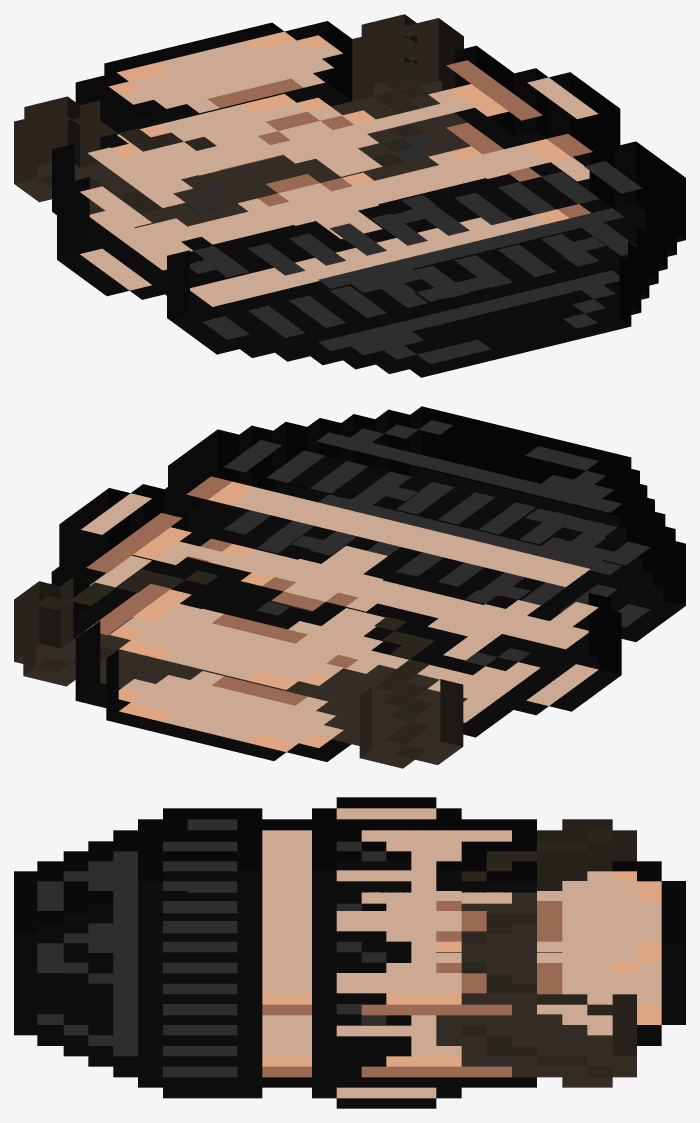
The picture shows the model from 3 angles, top to bottom: view 1: azimuth 30°, elevation 25°; view 2: azimuth 150°, elevation 25°; view 3: azimuth 270°, elevation 25°; orthographic projection.
Parts seen in each view (by area): view 1: Cube; view 2: Cube; view 3: Cube.
Part boxes in pixels (x1=…): Cube: x1=14, y1=14, x2=685, y2=377; Cube: x1=14, y1=406, x2=685, y2=768; Cube: x1=14, y1=797, x2=685, y2=1108.
Size of the model in its own units: 1.49 by 0.1724 by 1.69.
